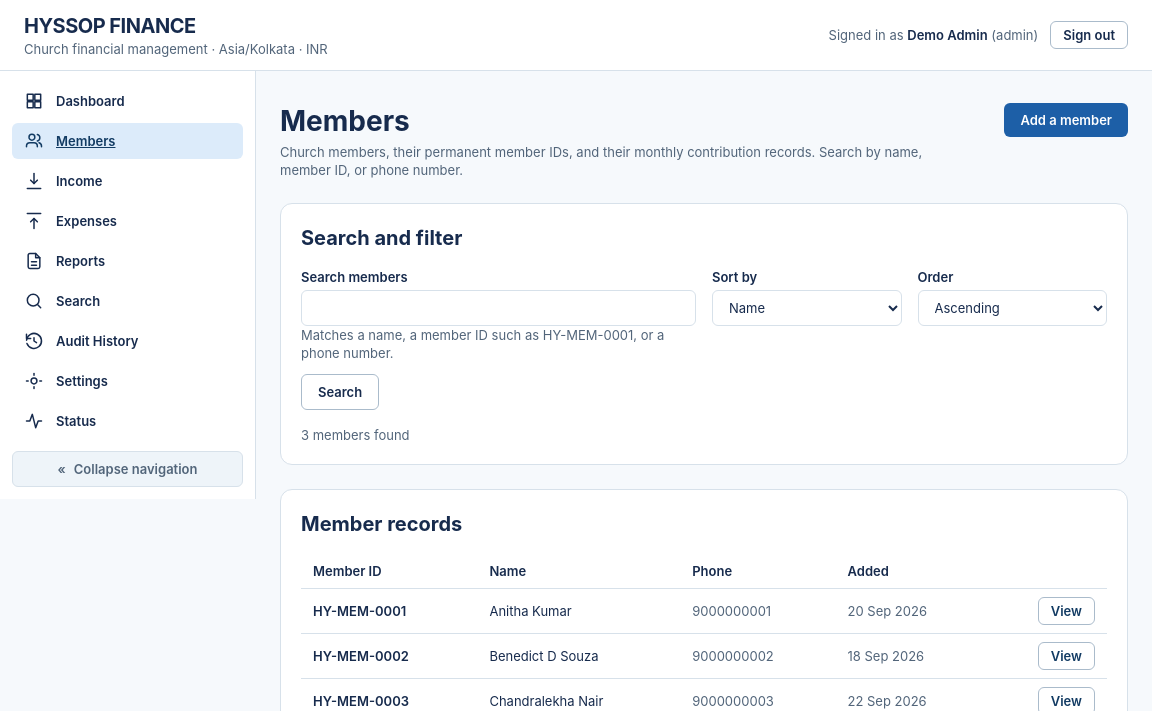
Test: searching and sorting members › shows the active search and can clear it again
The width and height of the screenshot is (1152, 711).
In the search field labelled "Search members": (498, 308) [301,290,696,326], type "Anitha"
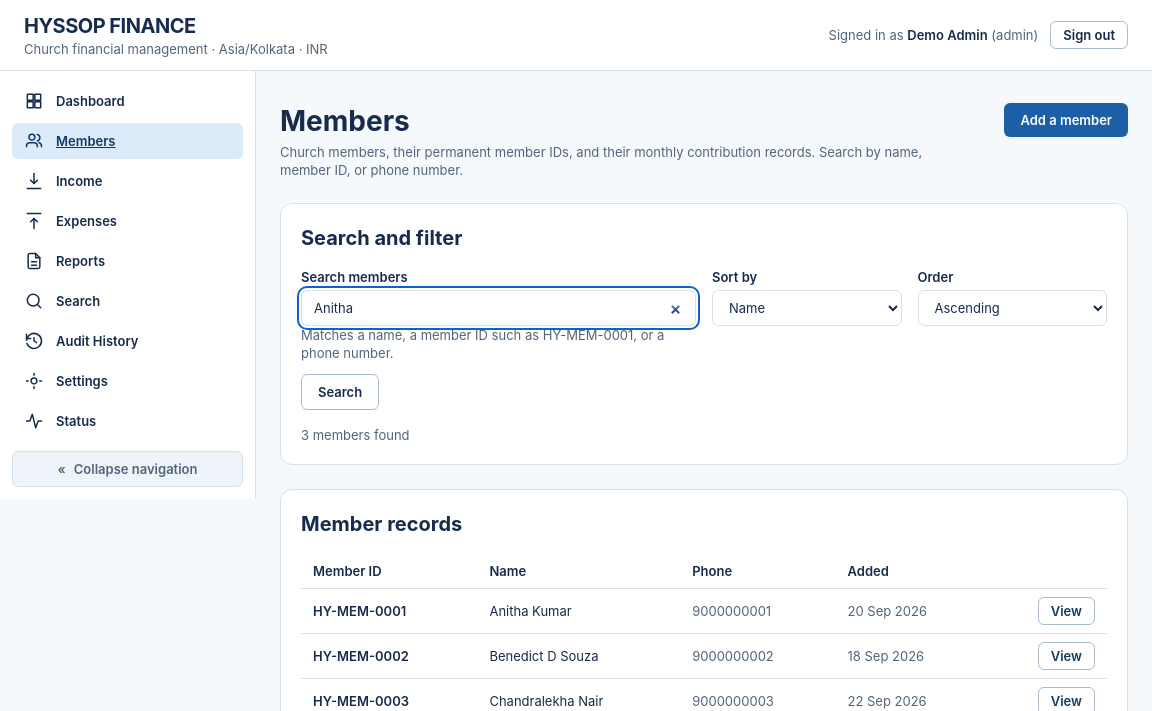
Click the button "Search": (340, 392) [301,374,379,410]
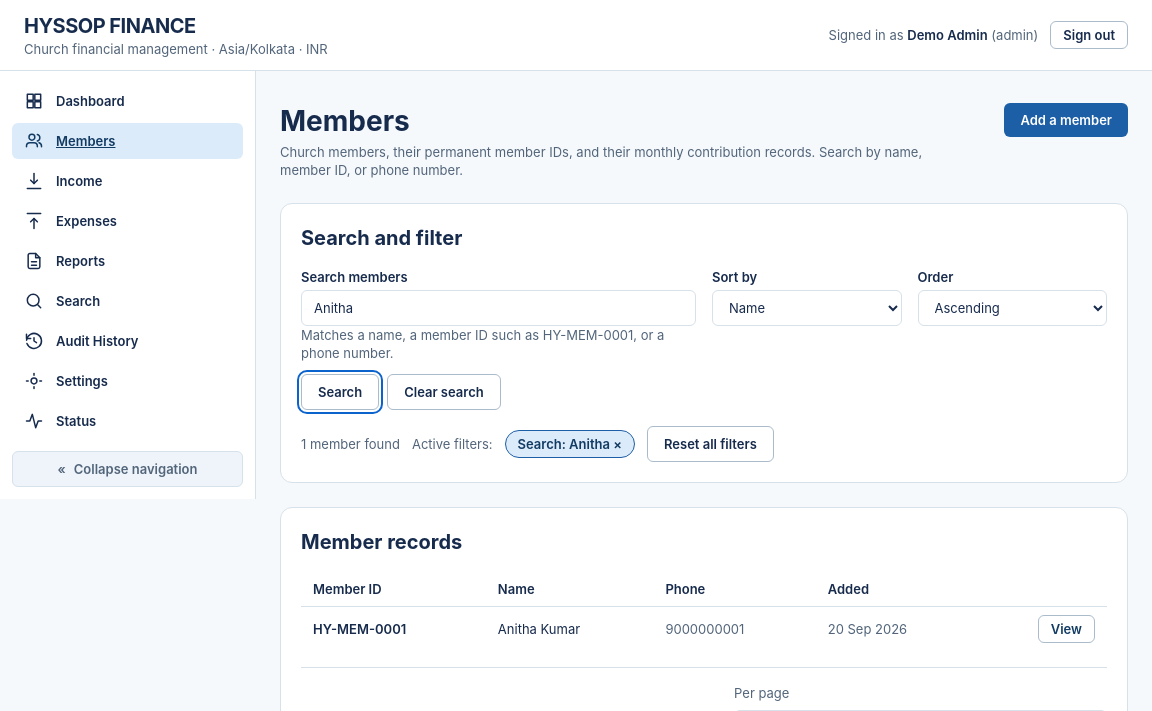
Result: the text with test id "result-count" reads "1 member found" at [301,436,400,452]
Result: the text "Active filters:" is shown at [412,435,493,453]
Click the button named "Remove filter: Search: Anitha": (570, 444) [504,430,635,458]
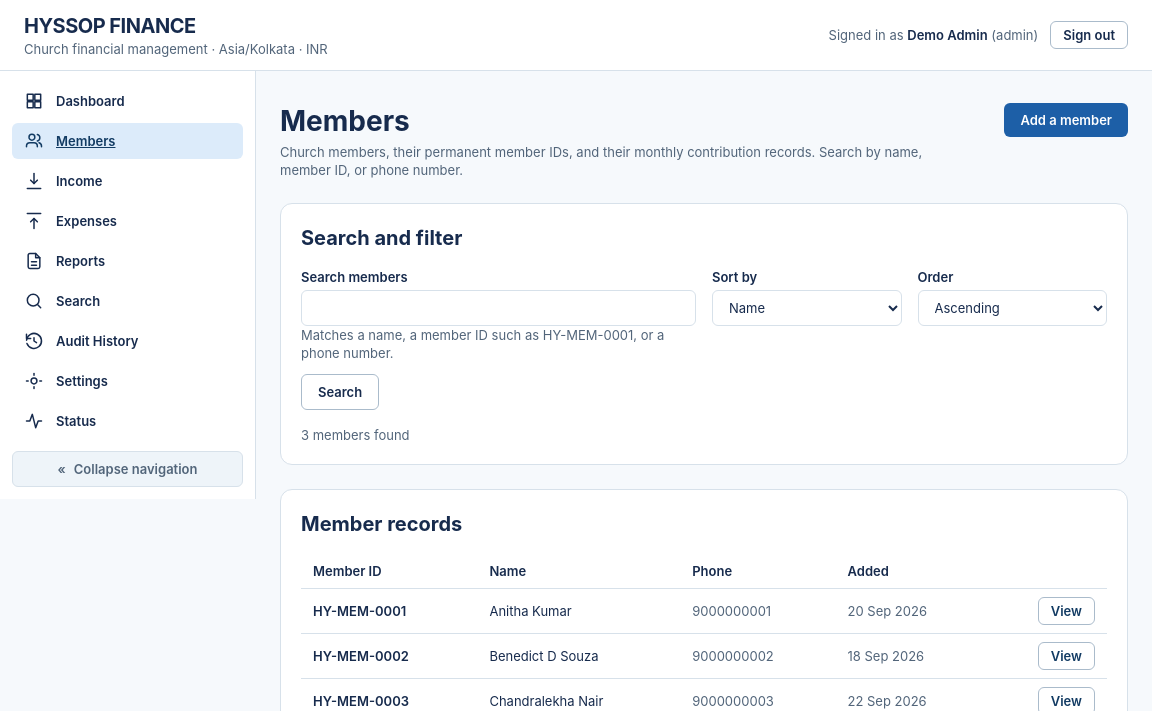
Result: the text with test id "result-count" reads "3 members found" at [301,427,410,443]
